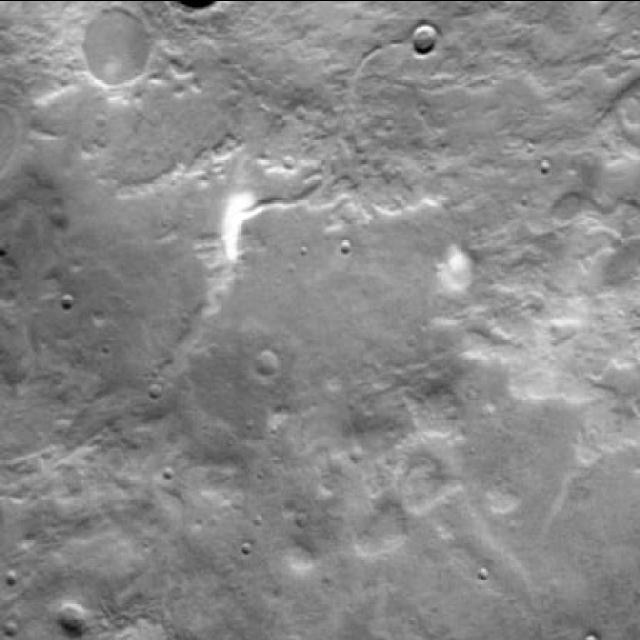crater: (416, 22, 442, 52), (65, 602, 89, 630), (262, 352, 286, 378)
